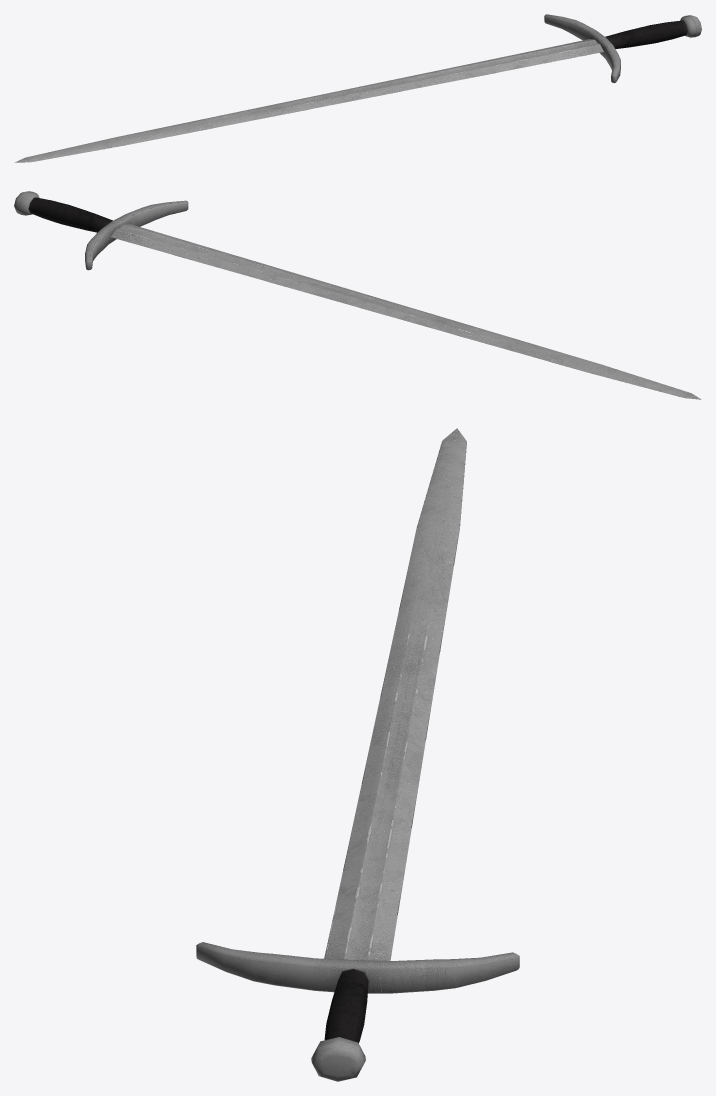
Rendered from wp_shortsword.glb.
3 views of the same model, one above another, from view 1: azimuth 30°, elevation 25°; view 2: azimuth 150°, elevation 25°; view 3: azimuth 270°, elevation 25° (orthographic). The views are drawn at different scales.
Visible parts, largest first — view 1: arms.002; view 2: arms.002; view 3: arms.002.
Part boxes in pixels (x1,y1,x2,y2): arms.002: (15,14,701,162); arms.002: (14,191,701,399); arms.002: (196,428,519,1081).
Bounding box in the file's own units: 3.96 × 0.1118 × 0.8473.
Materials: 1 (1 with a texture image).
